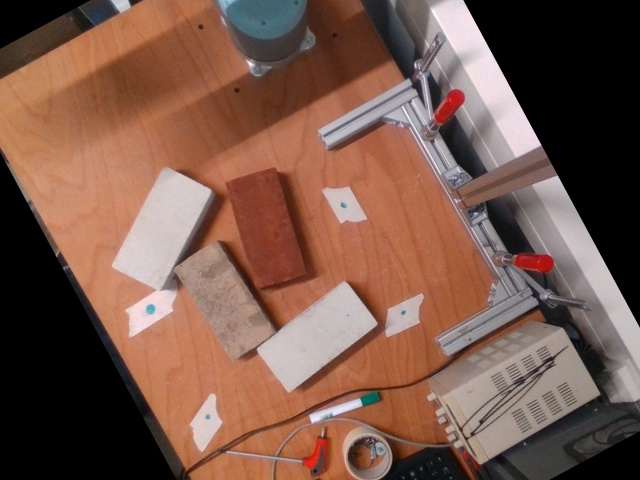brick: (258, 282, 377, 392), (171, 242, 275, 363), (112, 167, 210, 289), (225, 166, 306, 286)
